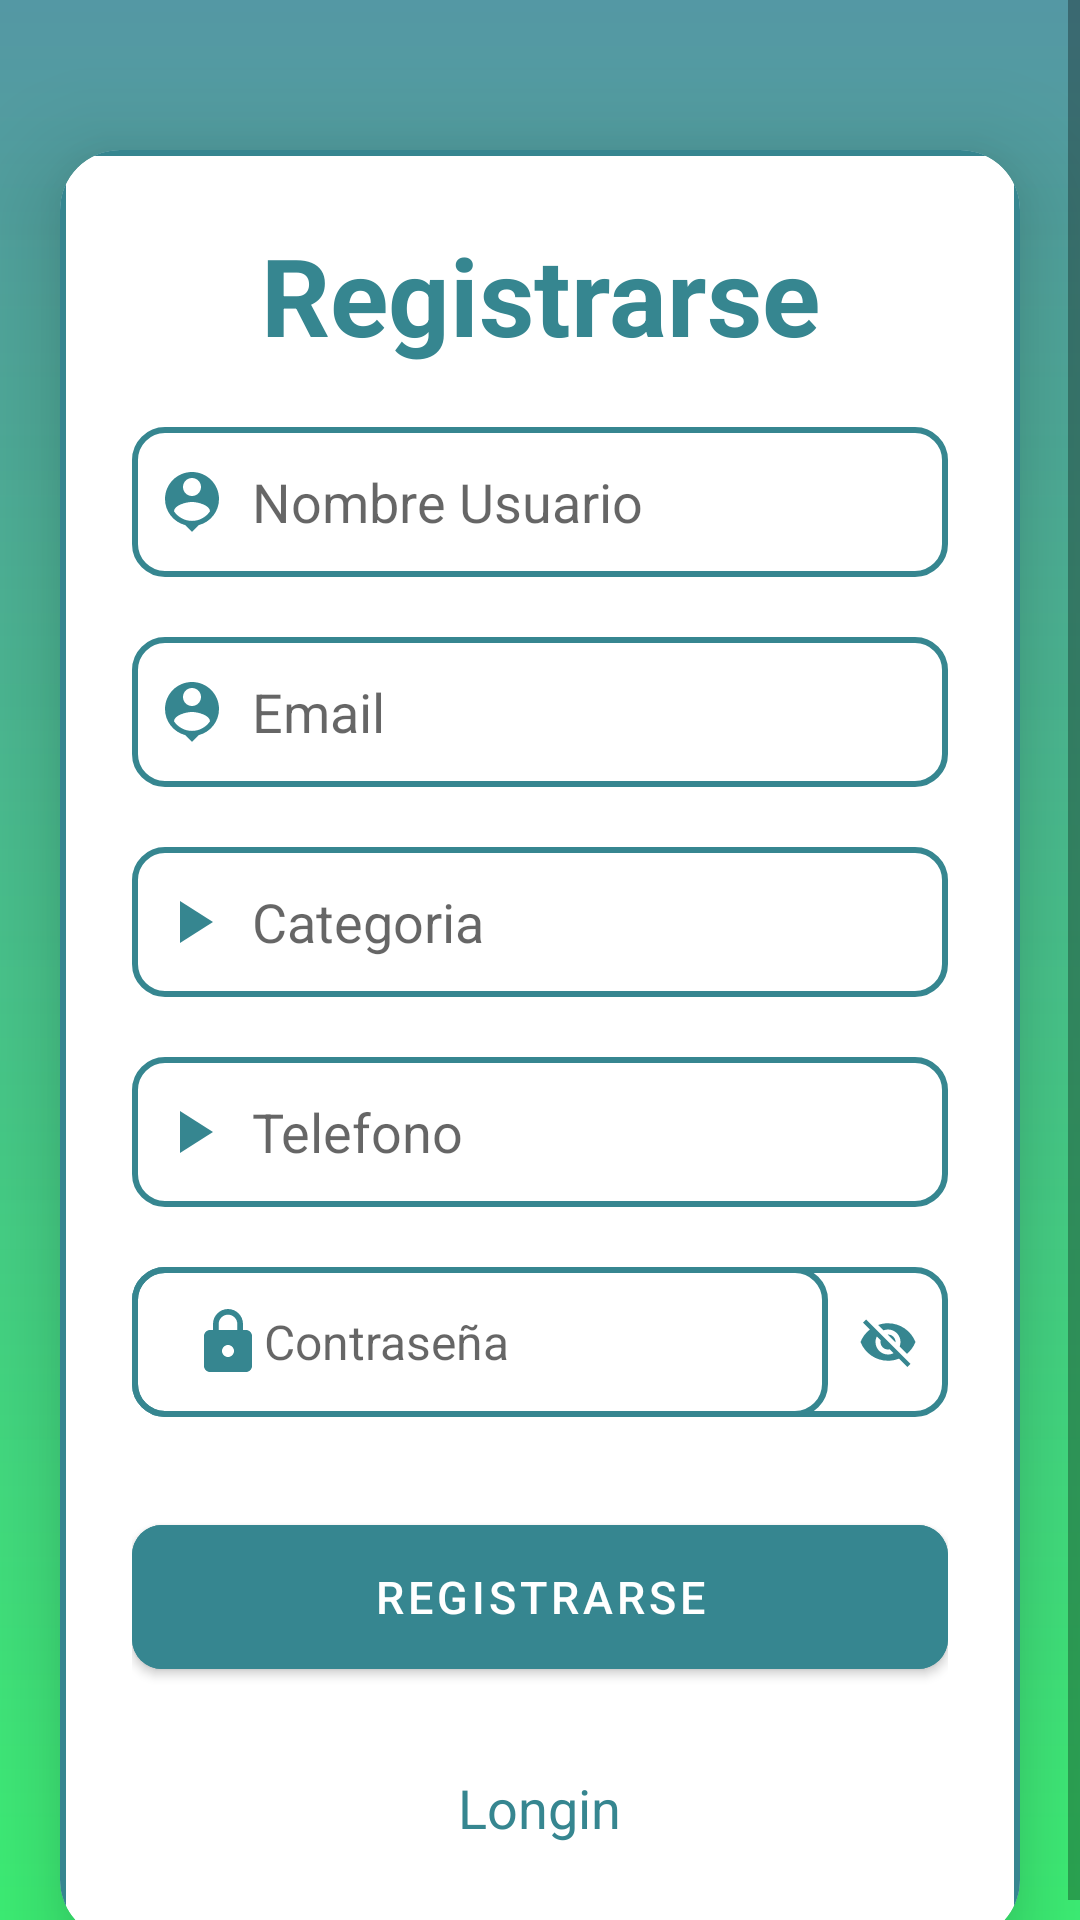

Point at icon controls on the screen. Image size 1080w x 1920h, points as (x=x, y=y).
visibility off: (x=888, y=1343)
